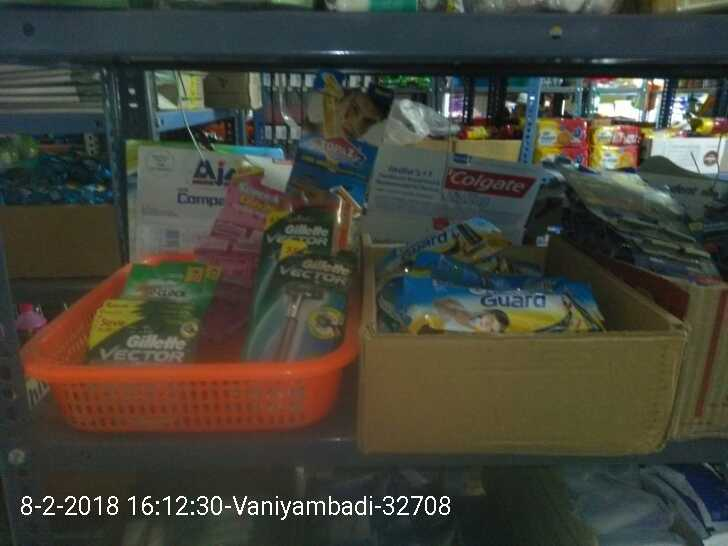gillette: (381, 271, 617, 340), (257, 244, 347, 377), (92, 305, 191, 386)
